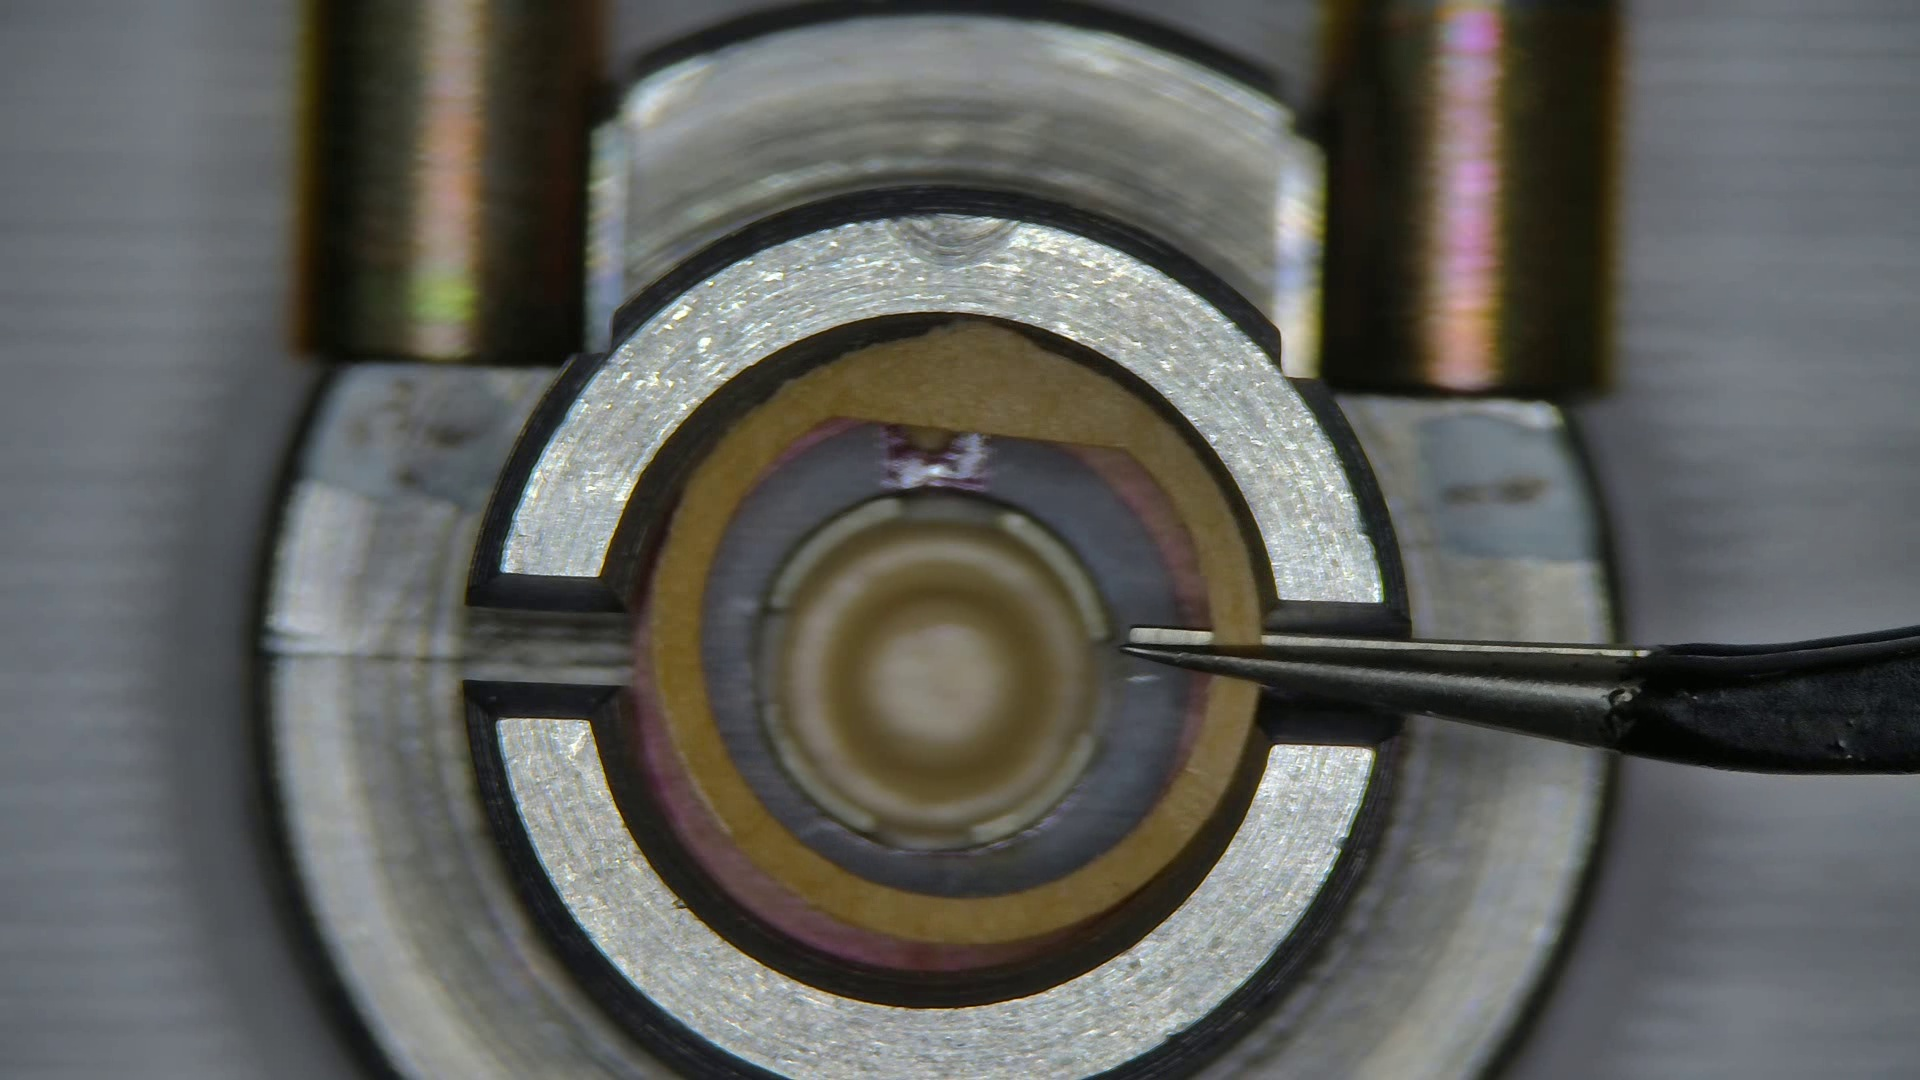GreyOring: (630, 626, 1056, 971), (1065, 447, 1207, 632)
YellowOring: (705, 433, 1183, 893)
redOring: (644, 326, 1259, 942)
